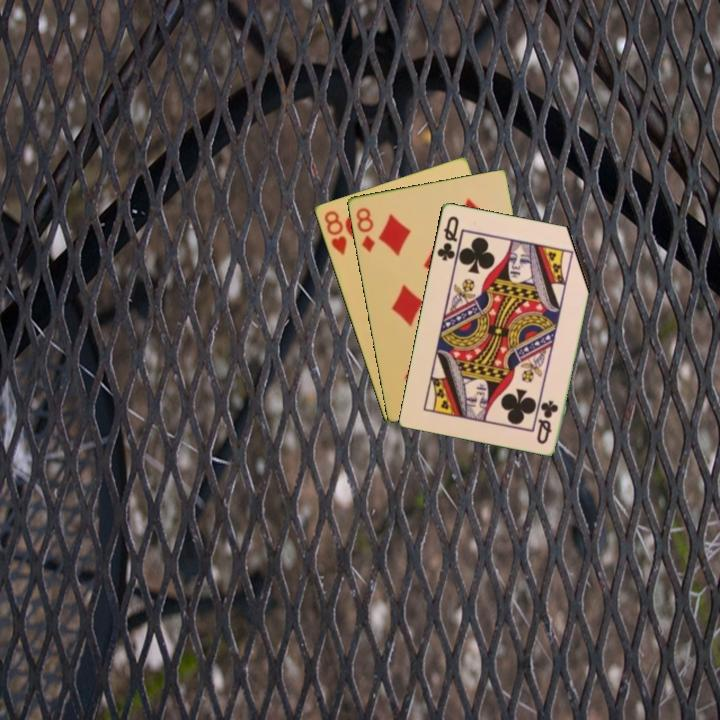8d: (352, 204, 378, 255)
8h: (320, 207, 349, 258)
Qc: (433, 212, 462, 263), (533, 396, 561, 447)
